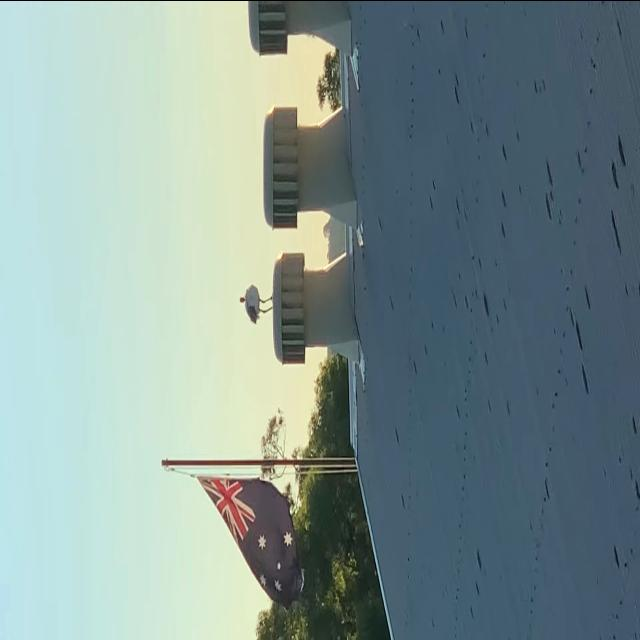Birds-Ibis: (238, 280, 274, 326)
